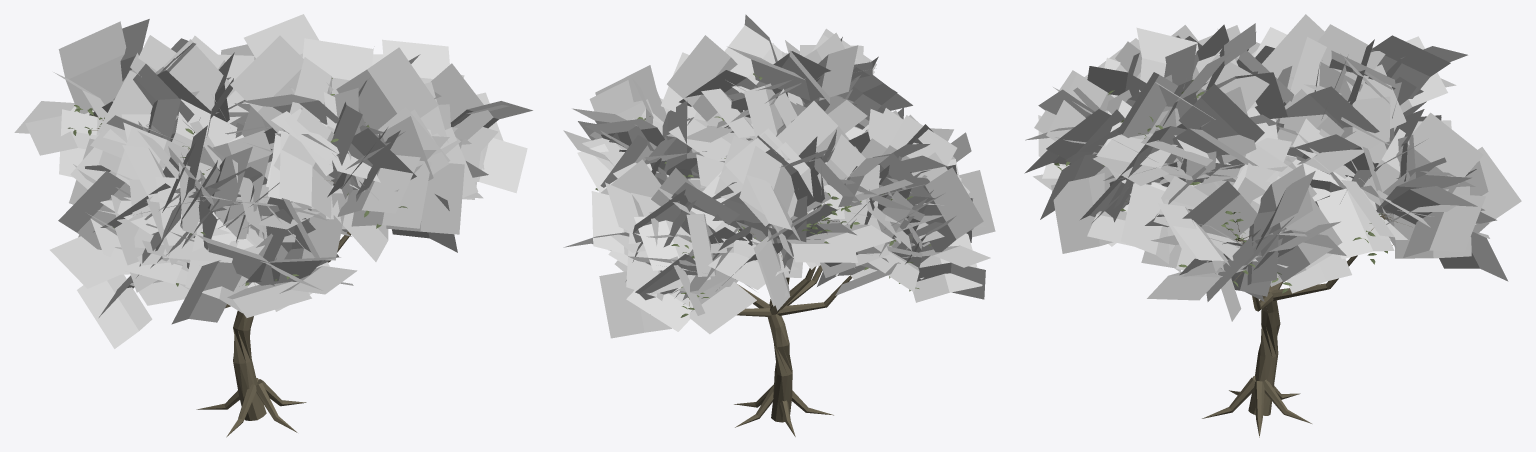
File: Oleastre_Dense_LOD1.fbx
3 renders of one model, left to right at view 1: azimuth 30°, elevation 25°; view 2: azimuth 150°, elevation 25°; view 3: azimuth 270°, elevation 25°, orthographic. The views are drawn at different scales.
Visible parts, largest first — view 1: Oleastre_Dense_LOD1; view 2: Oleastre_Dense_LOD1; view 3: Oleastre_Dense_LOD1.
Boxes of the visible parts, x1=… form: Oleastre_Dense_LOD1: x1=14, y1=14, x2=532, y2=437; Oleastre_Dense_LOD1: x1=563, y1=14, x2=995, y2=436; Oleastre_Dense_LOD1: x1=1024, y1=14, x2=1521, y2=437.
Bounding box in the file's own units: 565 × 469 × 536.
